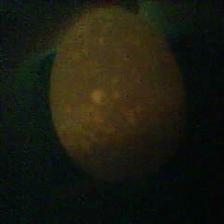fertile: (51, 5, 187, 190)
